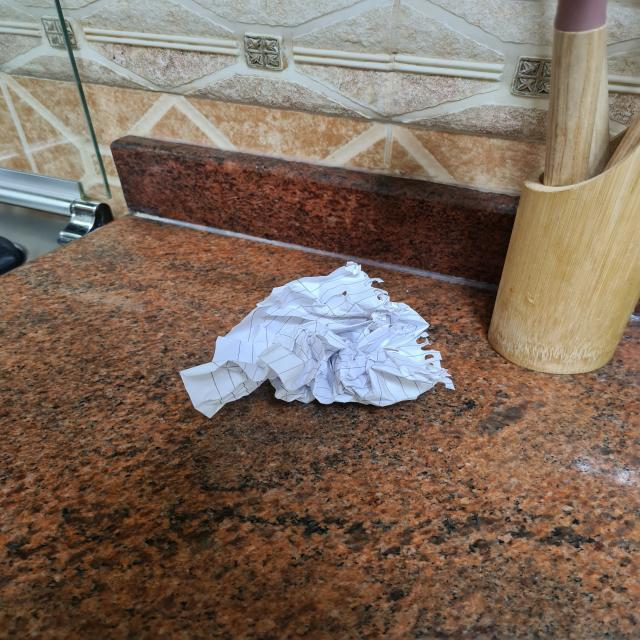Paper: (180, 259, 447, 422)
